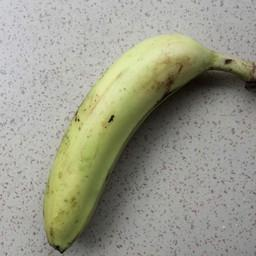Banana Ripe: (28, 3, 214, 256)
